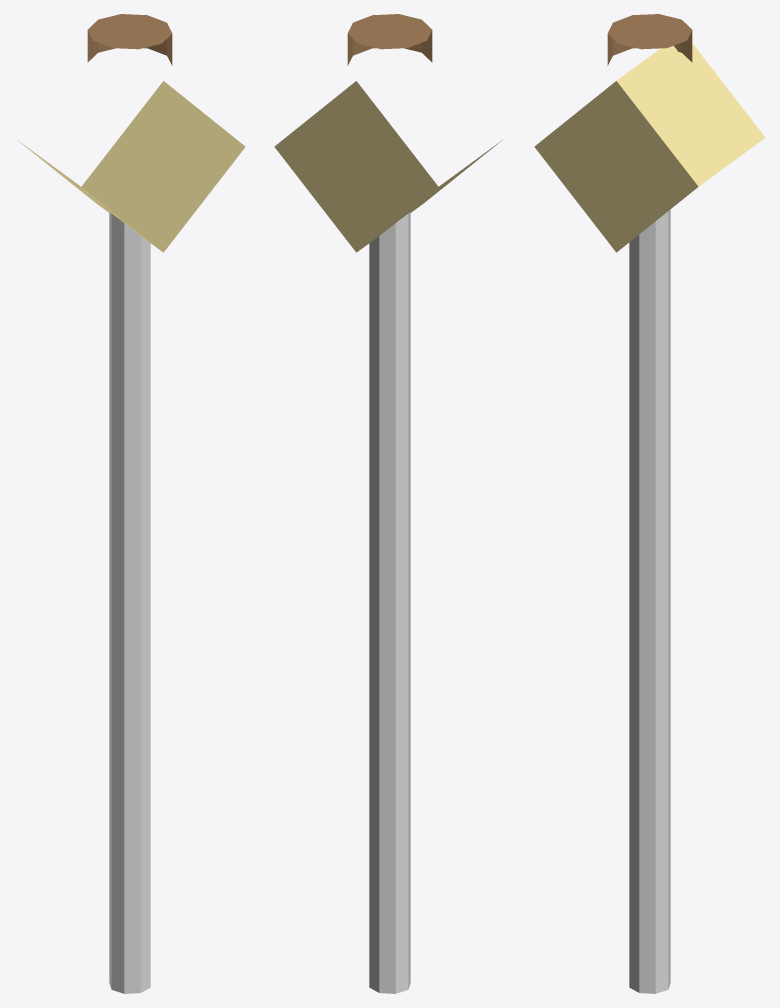
Rendered from chen.glb.
The picture shows the model from 3 angles, left to right: view 1: azimuth 30°, elevation 25°; view 2: azimuth 150°, elevation 25°; view 3: azimuth 330°, elevation 25°; orthographic projection.
Parts seen in each view (by area): view 1: chen-shaft, chen-head-gem, chen-cap; view 2: chen-shaft, chen-head-gem, chen-cap; view 3: chen-shaft, chen-head-gem, chen-cap.
Part boxes in pixels (left/top/right/bottom): chen-shaft: left=109, top=212, right=150, bottom=993; chen-head-gem: left=17, top=81, right=245, bottom=252; chen-cap: left=87, top=14, right=172, bottom=65; chen-shaft: left=369, top=212, right=410, bottom=993; chen-head-gem: left=274, top=81, right=502, bottom=252; chen-cap: left=347, top=14, right=432, bottom=65; chen-shaft: left=629, top=209, right=670, bottom=993; chen-head-gem: left=534, top=43, right=765, bottom=252; chen-cap: left=607, top=14, right=692, bottom=65.
Size of the model in its own units: 0.3111 by 1.72 by 0.22.
